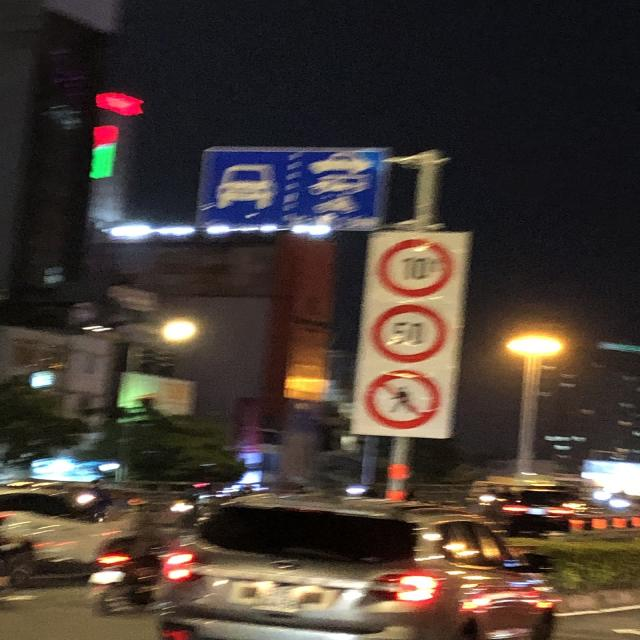Bien bao toc do toi da cho phep: (367, 304, 455, 364)
